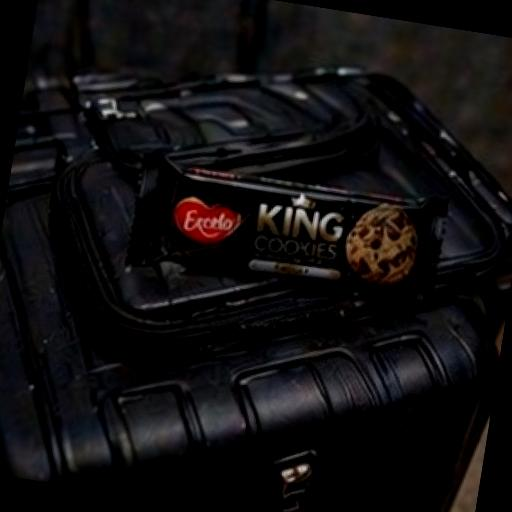king-cooking: (96, 80, 497, 376)
